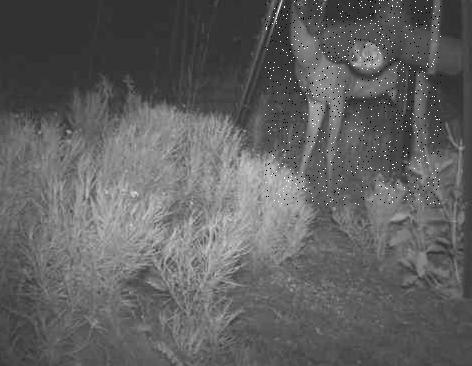Deer: (265, 0, 441, 205)
